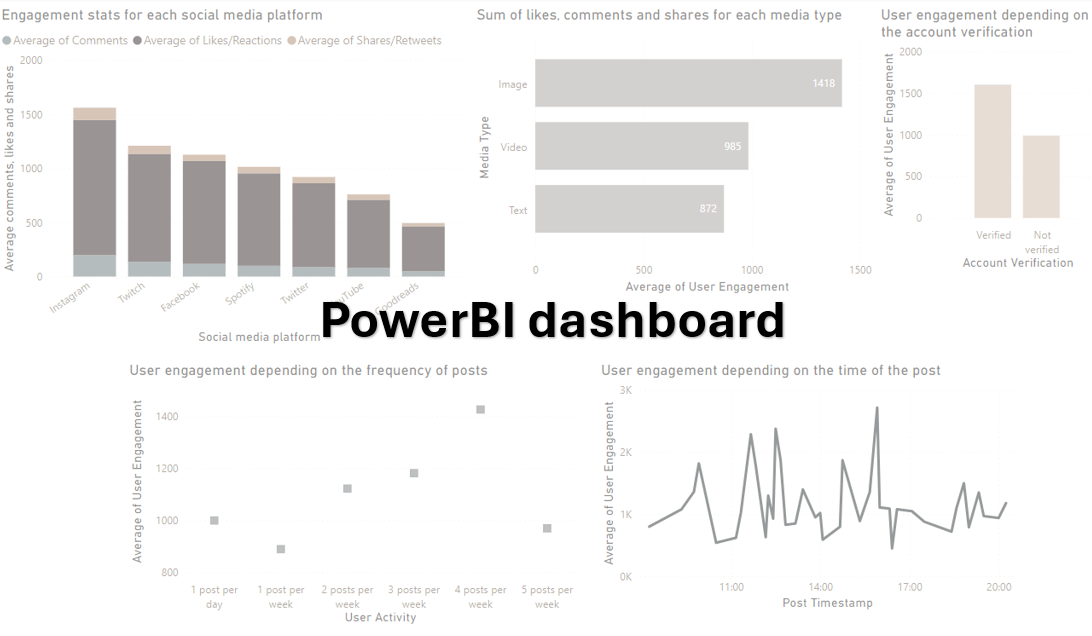

What the dashboard file says about the page in this screenshot:
{"tool":"powerbi","page":{"name":"Page 1","canvas":[1280,720],"ordinal":0},"visuals":[{"type":"scatterChart","title":"User engagement depending on the frequency of posts","fields":{"X":["socialmedia.User Activity"],"Y":["Avg(socialmedia.User Engagement)"]},"box":[145.4,414.1,522.3,305],"z":1},{"type":"columnChart","title":"Engagement stats for each social media platform","fields":{"Category":["socialmedia.Platform"],"Y":["Avg(socialmedia.Comments)","Avg(socialmedia.Likes/Reactions)","Avg(socialmedia.Shares/Retweets)"]},"box":[0,8.9,541.8,390.1],"z":4},{"type":"barChart","title":"Sum of likes, comments and shares for each media type","fields":{"Category":["socialmedia.Media Type"],"Y":["Avg(socialmedia.User Engagement)"]},"box":[541.8,8.9,482.4,332.5],"z":5},{"type":"columnChart","title":"User engagement depending on the account verification","fields":{"Y":["Avg(socialmedia.User Engagement)"],"Category":["socialmedia.Account Verification"]},"box":[1002.9,8.9,266,305.9],"z":7},{"type":"lineChart","title":"User engagement depending on the time of the post","fields":{"Y":["Avg(socialmedia.User Engagement)"],"Category":["socialmedia.Post Timestamp"]},"box":[683.6,414.1,486.8,288.2],"z":8}]}

Visuals, with their boxes on the page's 1280x720 design canvas (x1, y1, x2, y2). These are canvas units, not pixel positions in the 1092x636 screenshot, which may show the page scaled, cropped or inside an application window:
"User engagement depending on the frequency of posts" scatterChart: [145, 414, 668, 719]
"Engagement stats for each social media platform" columnChart: [0, 9, 542, 399]
"Sum of likes, comments and shares for each media type" barChart: [542, 9, 1024, 341]
"User engagement depending on the account verification" columnChart: [1003, 9, 1269, 315]
"User engagement depending on the time of the post" lineChart: [684, 414, 1170, 702]
